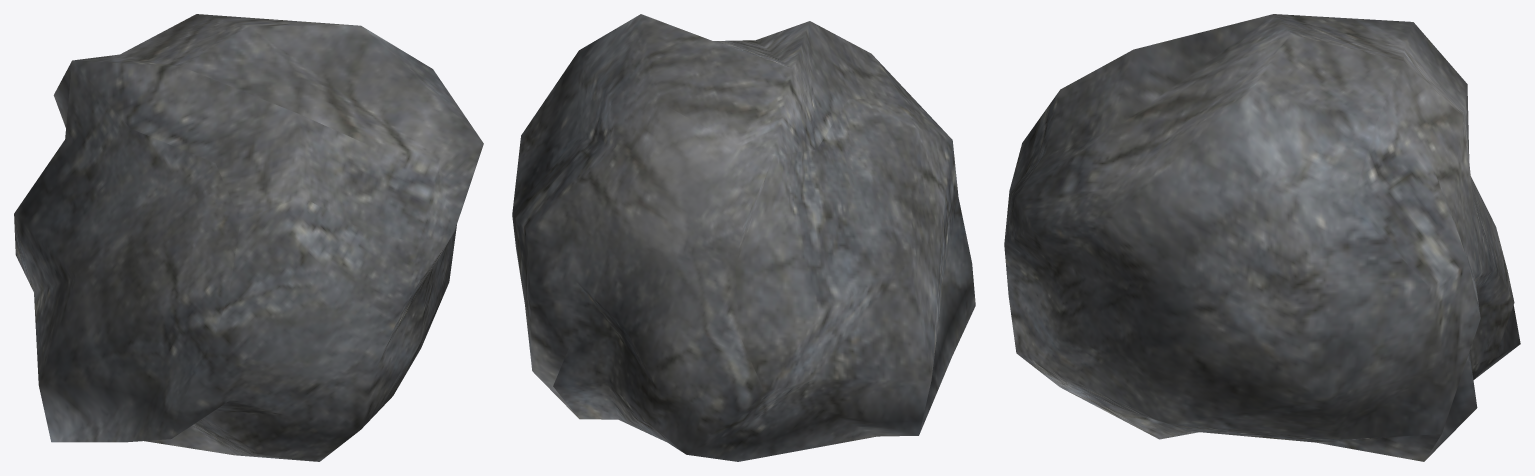
File: Boulder_02.FBX
3 renders of one model, left to right at view 1: azimuth 30°, elevation 25°; view 2: azimuth 150°, elevation 25°; view 3: azimuth 270°, elevation 25°, orthographic. The views are drawn at different scales.
Visible parts, largest first — view 1: Boulder_02; view 2: Boulder_02; view 3: Boulder_02.
Part boxes in pixels (bbox=[...]): Boulder_02: bbox=[14, 14, 483, 461]; Boulder_02: bbox=[512, 14, 975, 461]; Boulder_02: bbox=[1004, 14, 1520, 461].
Bounding box in the file's own units: 45.17 × 39.62 × 45.21.
